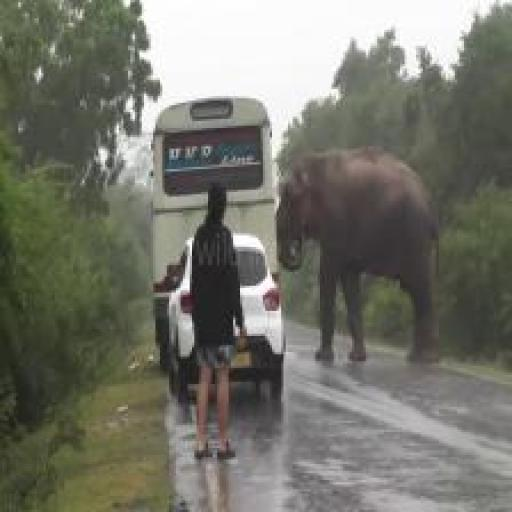Elephant: (276, 142, 468, 391)
